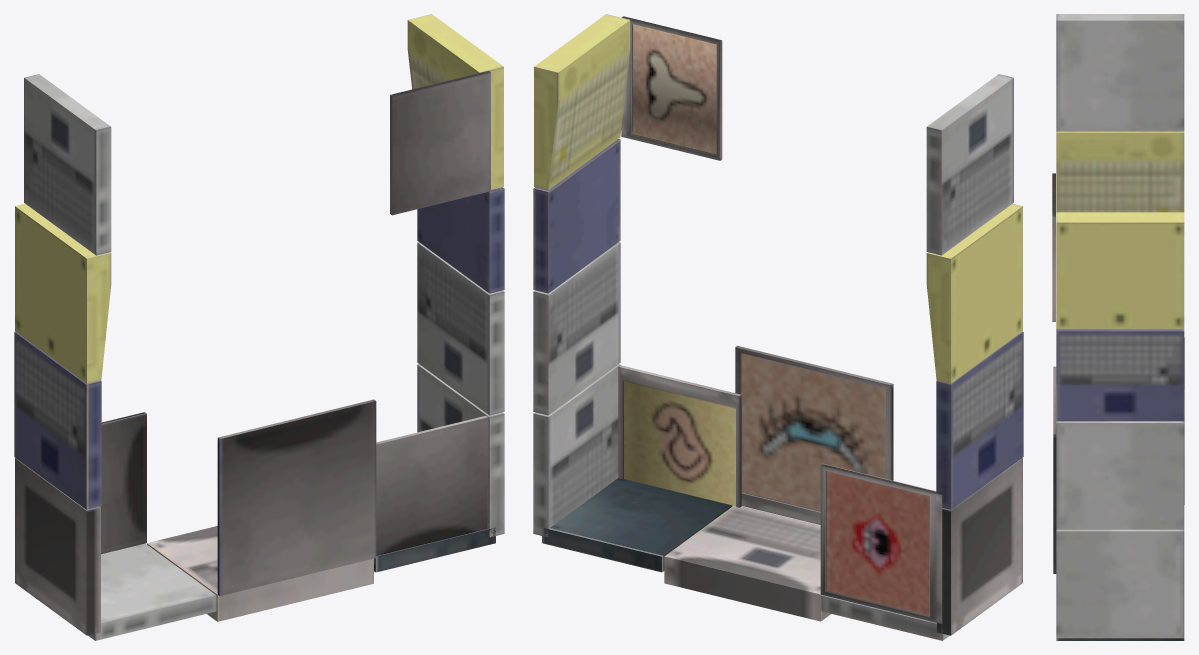
Rendered from hako2.ico.obj.
The picture shows the model from 3 angles, left to right: view 1: azimuth 30°, elevation 25°; view 2: azimuth 150°, elevation 25°; view 3: azimuth 270°, elevation 25°; orthographic projection. The views are drawn at different scales.
Size of the model in its own units: 2.23 by 2.66 by 0.6897.
1 material, 1 textured.
